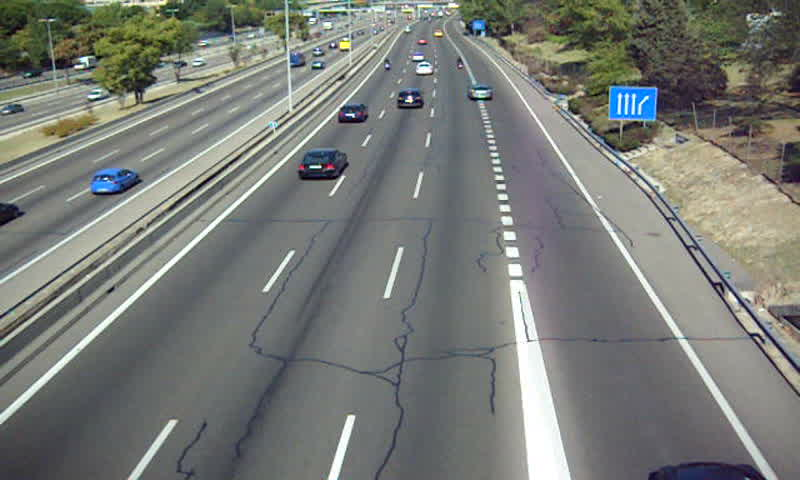car: (297, 147, 348, 179), (338, 103, 367, 124), (397, 87, 424, 109), (469, 83, 494, 102), (414, 60, 433, 76)
motorcycle: (384, 56, 393, 74), (456, 57, 467, 71)
